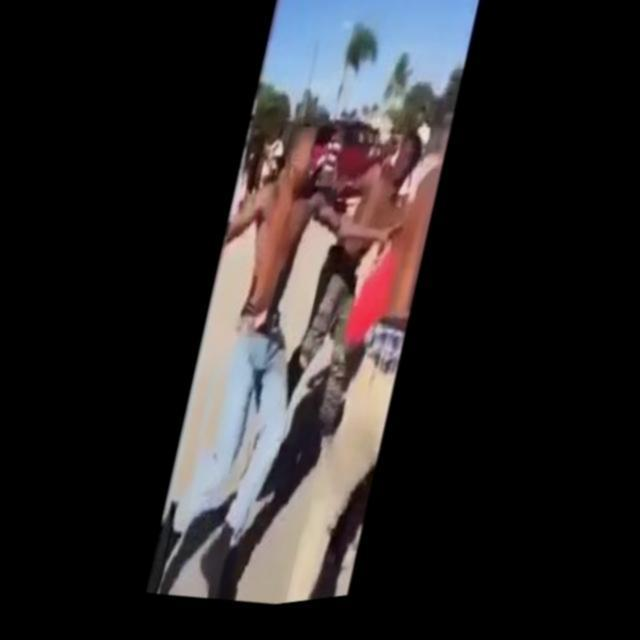fight: (156, 100, 432, 602)
